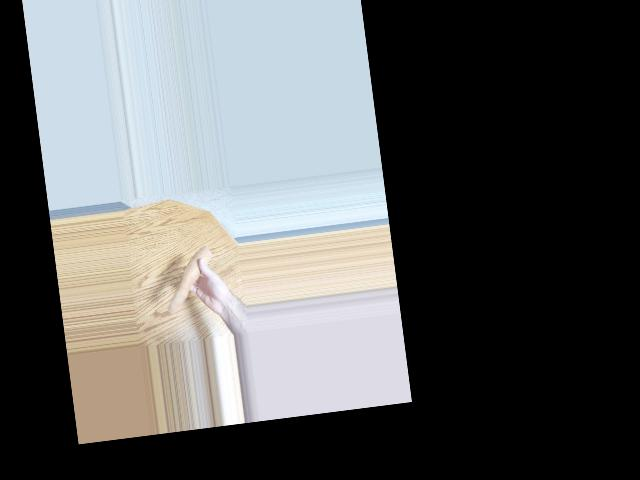sweet_potato: (163, 250, 219, 313)
